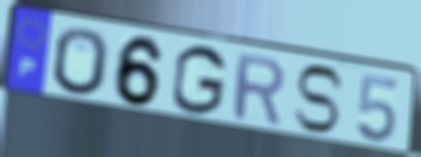5: (354, 72, 401, 145)
6: (110, 34, 169, 109)
G: (169, 43, 229, 118)
O: (52, 26, 111, 98)
R: (231, 51, 287, 129)
S: (291, 63, 347, 135)
